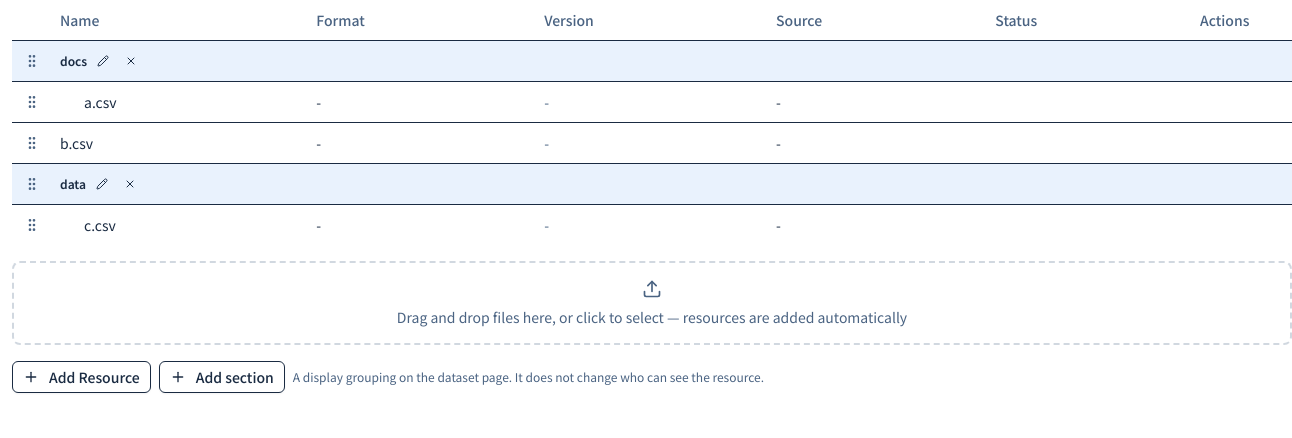
Test case: ResourceList sections › should refuse renaming a section to a run's name it is not next to, but allow its own
The image size is (1292, 438).
Click the 2nd button named "Rename section".
click(102, 184)  # box x1=90 y1=172 x2=114 y2=196
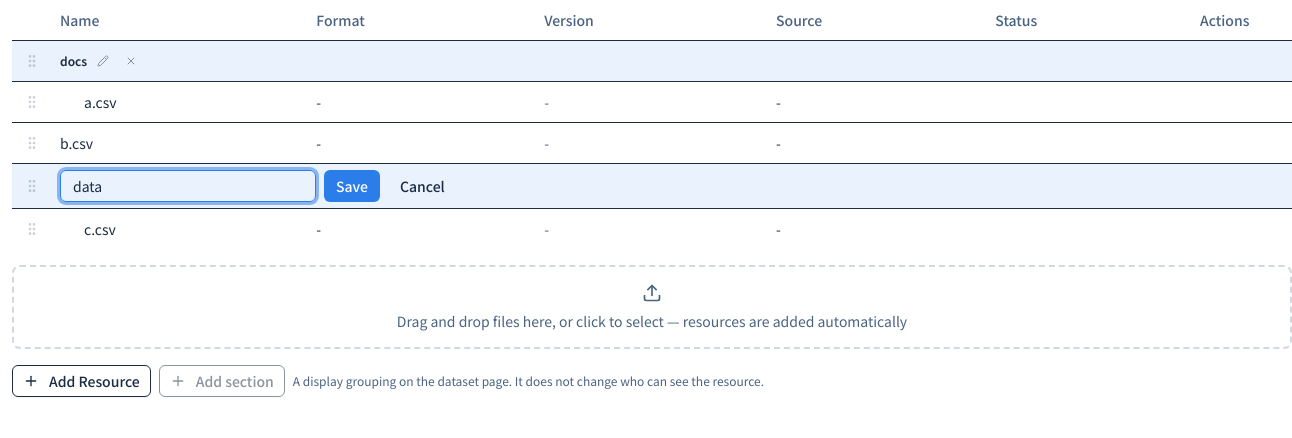
Replace the text in the field named "Section name" with "docs" at (188, 186), box x1=60 y1=170 x2=316 y2=202
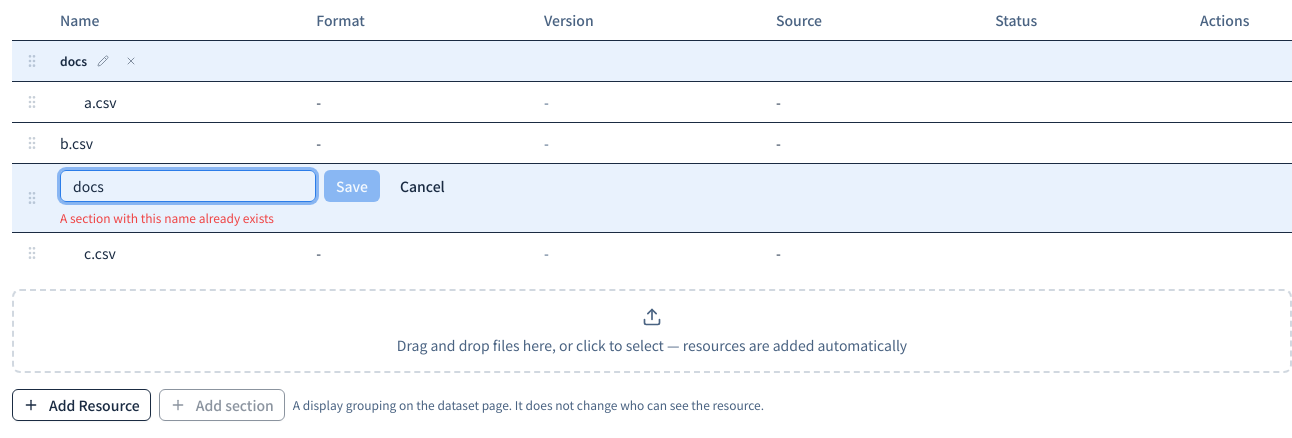
Expected: the message "A section with this name already exists" is shown, x1=60 y1=208 x2=274 y2=226
Expected: the button "Save" is disabled, x1=324 y1=170 x2=380 y2=202
Replace the text in the field named "Section name" with "data" at (188, 186), box x1=60 y1=170 x2=316 y2=202
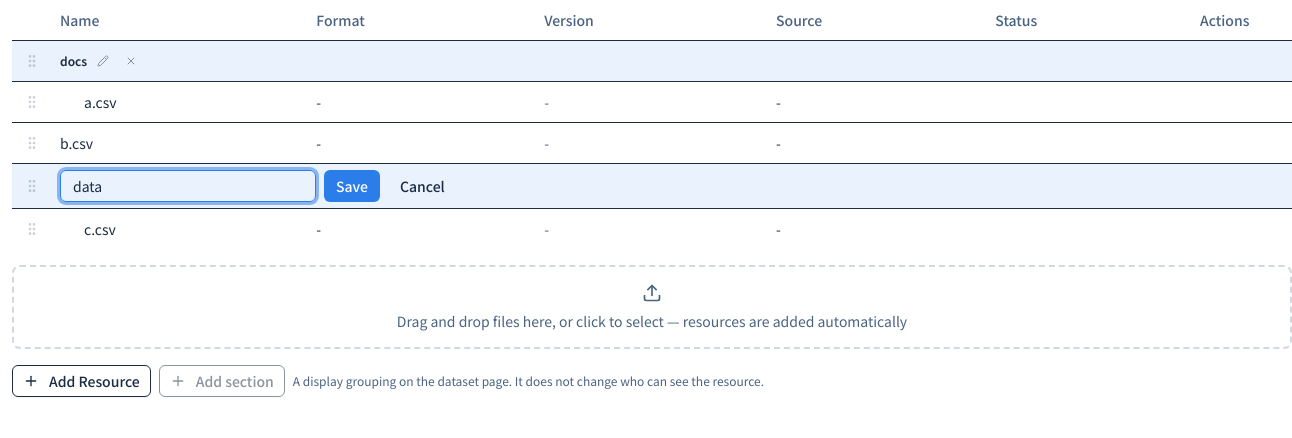
Expected: the message "A section with this name already exists" is gone
Expected: the button "Save" is enabled, x1=324 y1=170 x2=380 y2=202
